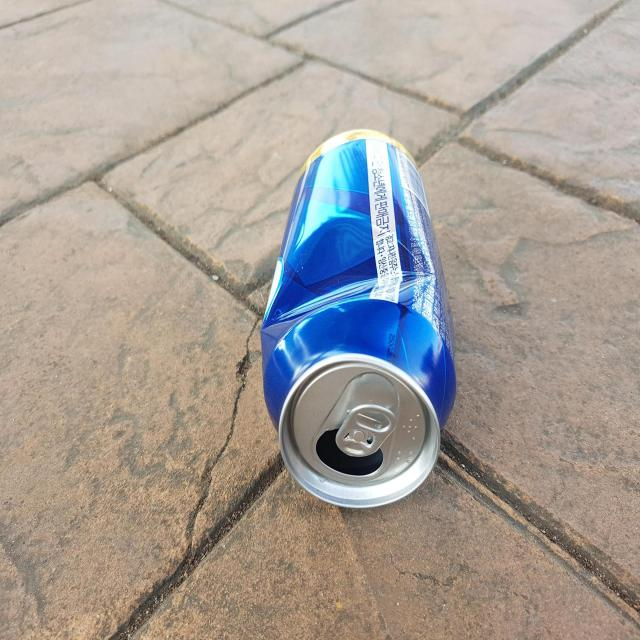can: (261, 128, 457, 508)
